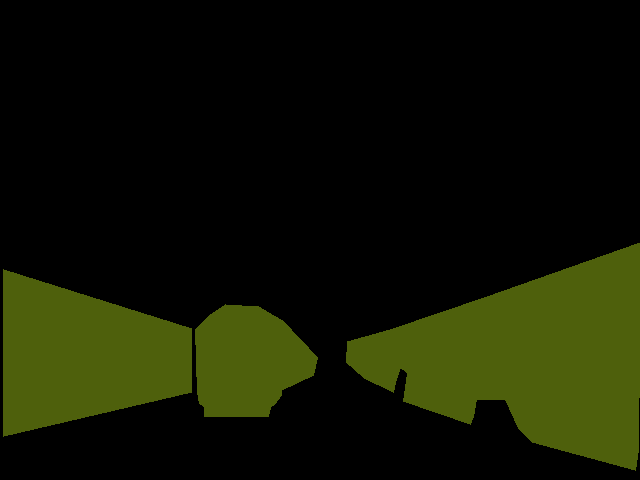Train: (346, 242, 640, 470), (3, 269, 192, 437), (195, 304, 317, 416)
